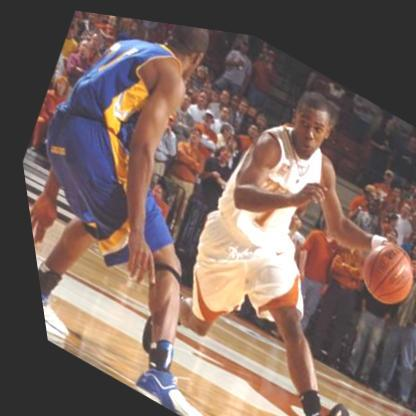basketball: (342, 222, 416, 308)
